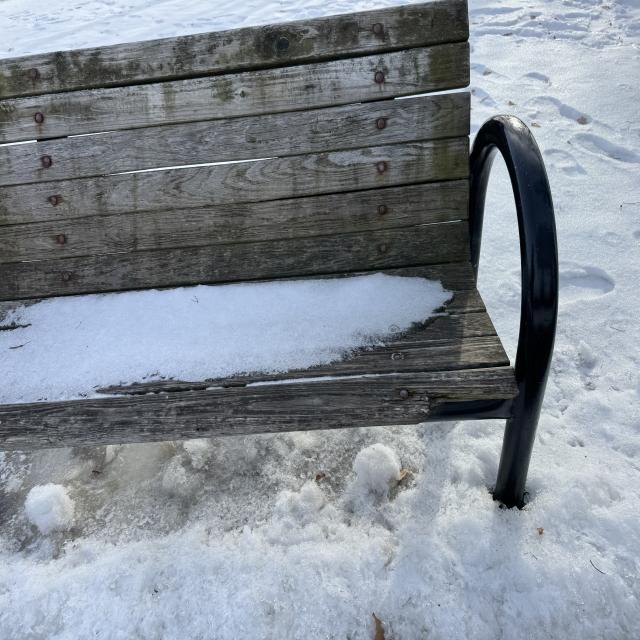Bench: (1, 66, 562, 506)
